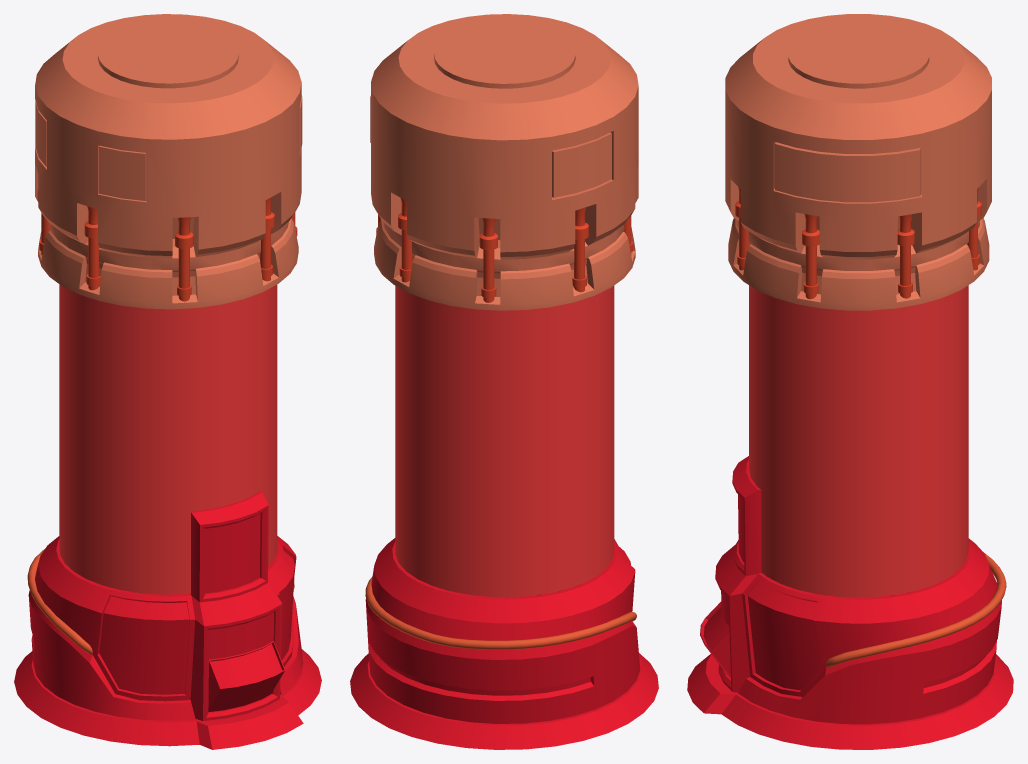
Rendered from Machine_Capsule.fbx.
3 renders of one model, left to right at view 1: azimuth 30°, elevation 25°; view 2: azimuth 150°, elevation 25°; view 3: azimuth 270°, elevation 25°, orthographic.
Parts seen in each view (by area): view 1: Cylinder.017, Cylinder.002, Cylinder.001, Cylinder.007, BezierCurve.003; view 2: Cylinder.017, Cylinder.002, Cylinder.001, Cylinder.007, BezierCurve.003; view 3: Cylinder.017, Cylinder.002, Cylinder.001, Cylinder.007, BezierCurve.003.
Boxes of the visible parts, x1,y1,x2,y2 form: Cylinder.017: (35,14,302,309); Cylinder.002: (59,284,277,594); Cylinder.001: (14,491,321,749); Cylinder.007: (37,189,297,301); BezierCurve.003: (27,549,294,654); Cylinder.017: (370,14,638,310); Cylinder.002: (395,286,614,597); Cylinder.001: (350,538,658,749); Cylinder.007: (376,197,633,302); BezierCurve.003: (365,576,636,649); Cylinder.017: (725,14,991,310); Cylinder.002: (749,285,968,597); Cylinder.001: (687,456,1013,749); Cylinder.007: (735,187,981,299); BezierCurve.003: (826,552,1006,667).
Bounding box in the file's own units: 67.85 × 153 × 71.77.
